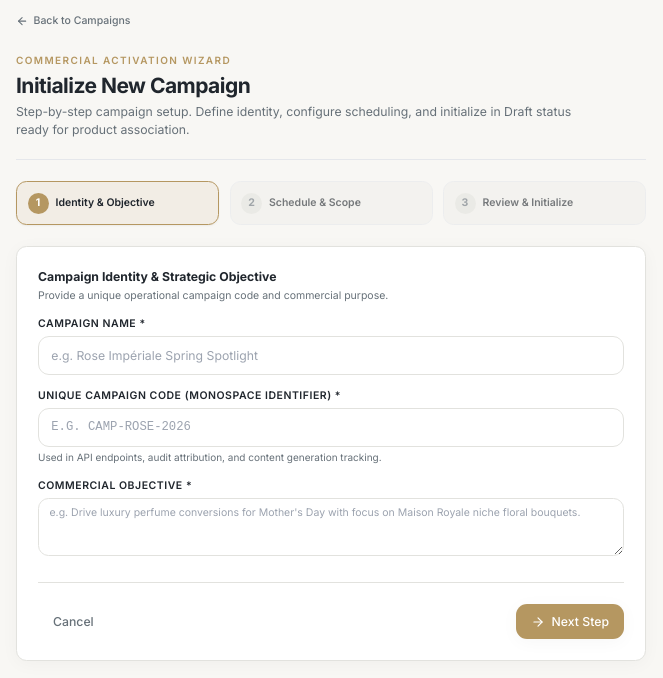
Campaign Creation Wizard (WEB-CAMP-13 to WEB-CAMP-16) › WEB-CAMP-13 & WEB-CAMP-14: auto-generates code from name and navigates between wizard steps
expect the heading "Initialize New Campaign" is shown: met, box left=16, top=72, right=250, bottom=98
expect the text "Identity & Objective" is shown: met, box left=56, top=196, right=155, bottom=210
Type "Autumn Amber Premiere" into the field labelled "Campaign Name *" at [331, 356], box left=38, top=336, right=624, bottom=375
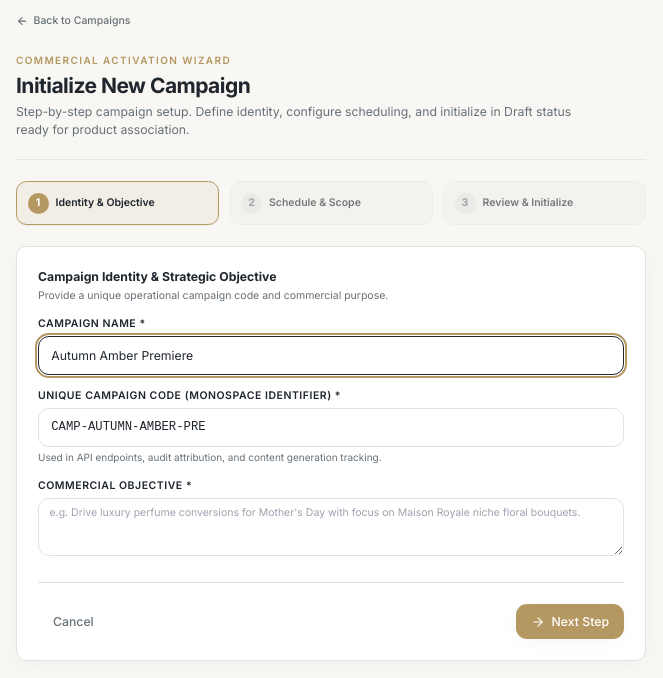
expect the field labelled "Unique Campaign Code (Monospace Identifier) *" holds "CAMP-AUTUMN-AMBER-PRE": met, box left=38, top=408, right=624, bottom=446
# Type Objective
Type "Promote amber and woody fragrances for fall season." into the text box labelled "Commercial Objective *" at [331, 527], box left=38, top=498, right=624, bottom=556
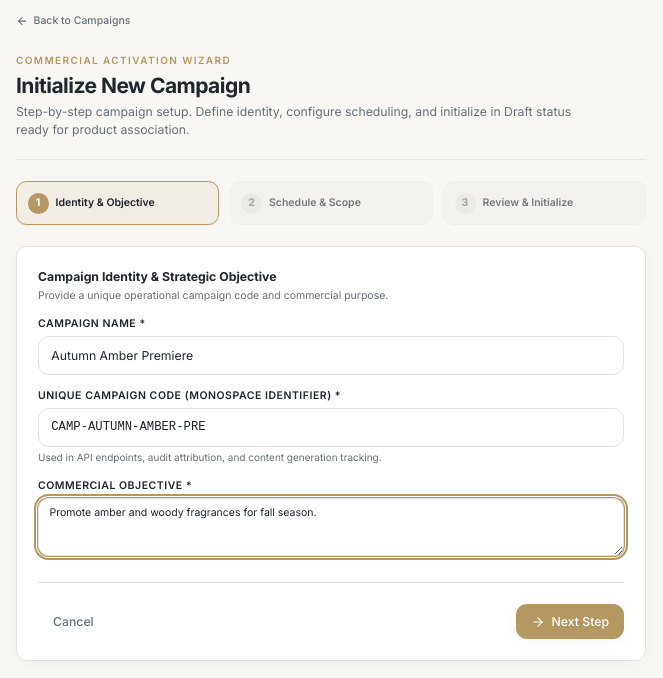
Click the button "Next Step" at [570, 622], box left=516, top=604, right=624, bottom=639
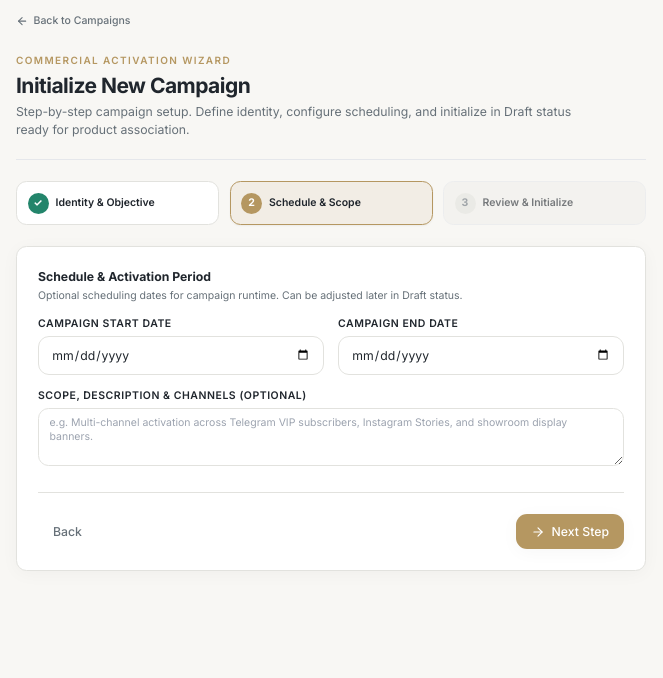
expect the heading "Schedule & Activation Period" is shown: met, box left=38, top=269, right=211, bottom=284
Click the button "Back" at [67, 532], box left=38, top=514, right=97, bottom=549
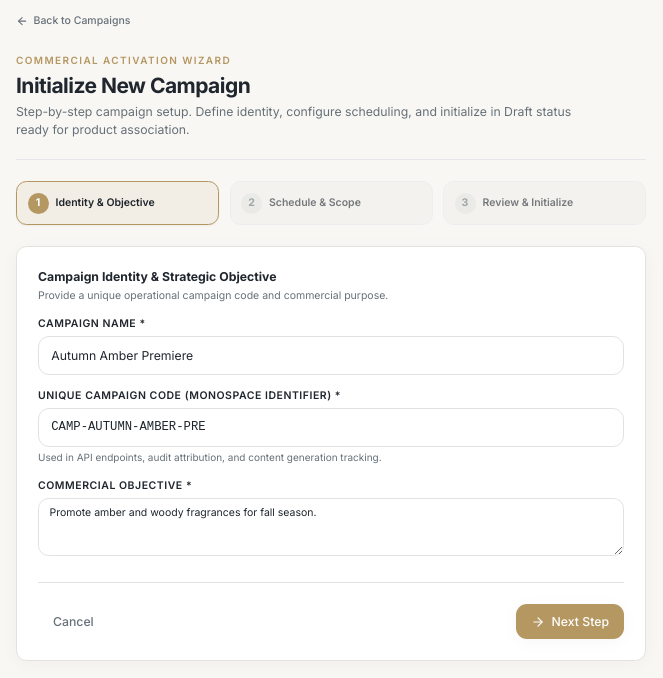
expect the field labelled "Campaign Name *" is shown: met, box left=38, top=336, right=624, bottom=375
